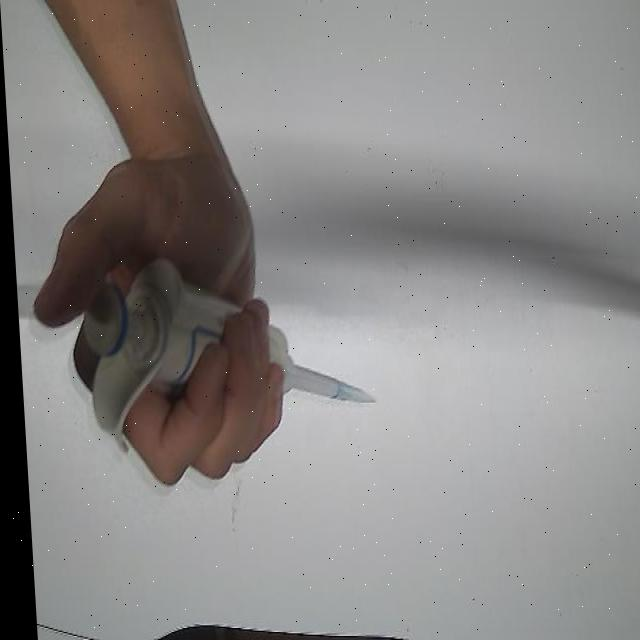Micropipette Tip 1000 uL: (327, 382, 372, 406)
Single Channel Pipettor: (62, 247, 347, 457)
